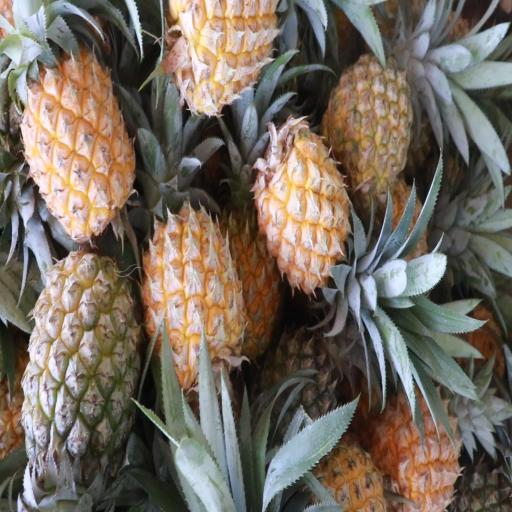------------------------------: (23, 258, 135, 478), (323, 55, 413, 199)
Pineapple - v8 v1: (24, 51, 134, 234), (143, 208, 243, 384), (256, 128, 346, 291), (167, 0, 279, 109), (378, 383, 461, 512), (218, 203, 283, 361)
